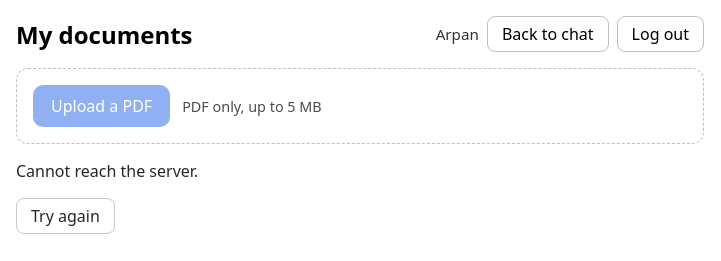
Scenario: DocumentsPage › shows an error with a retry that works
Expected: the text "Cannot reach the server." is shown, x1=16 y1=160 x2=198 y2=182
Step 1. Click the button "Try again" → (65,216), box x1=16 y1=198 x2=115 y2=234
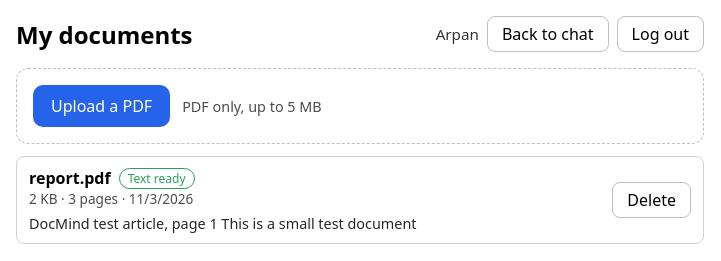
Now the text "report.pdf" is shown, box x1=29 y1=167 x2=111 y2=189
